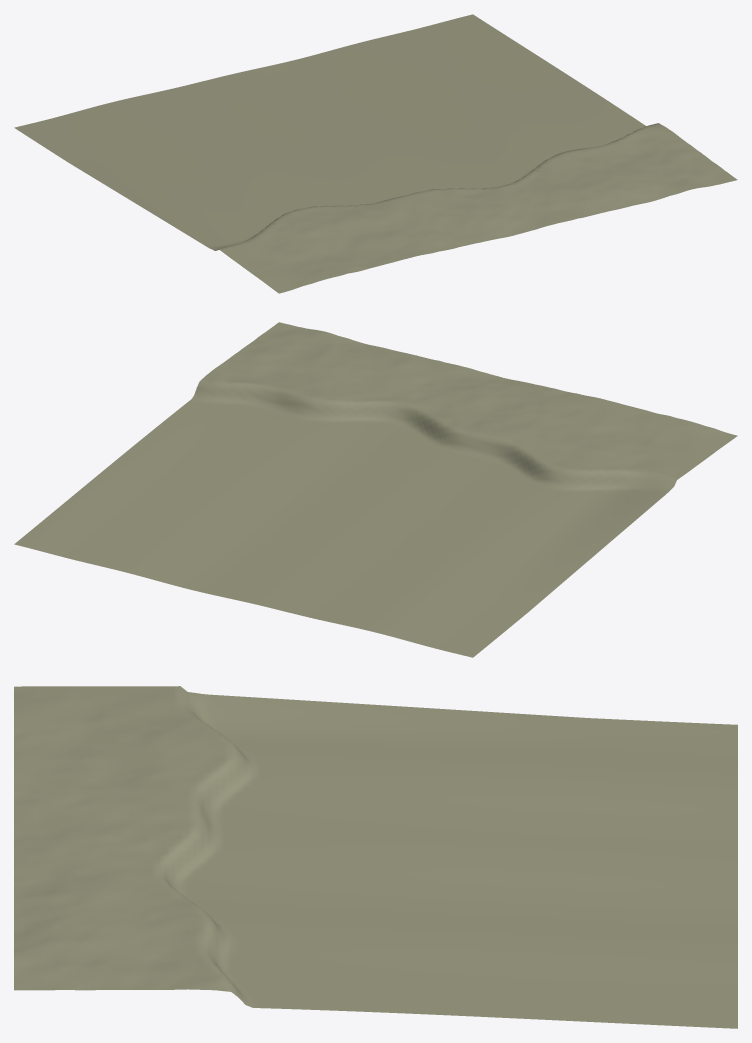
The model's file is SM_VB_Terrain_3_1.fbx.
3 views of the same model, one above another, from view 1: azimuth 30°, elevation 25°; view 2: azimuth 150°, elevation 25°; view 3: azimuth 270°, elevation 25° (orthographic). The views are drawn at different scales.
Parts seen in each view (by area): view 1: SM_VB_Terrain_3_1; view 2: SM_VB_Terrain_3_1; view 3: SM_VB_Terrain_3_1.
Boxes of the visible parts, <box> form: SM_VB_Terrain_3_1: <box>14,14,737,293</box>; SM_VB_Terrain_3_1: <box>14,322,737,657</box>; SM_VB_Terrain_3_1: <box>14,686,737,1028</box>.
Size of the model in its own units: 400 by 27.24 by 400.
